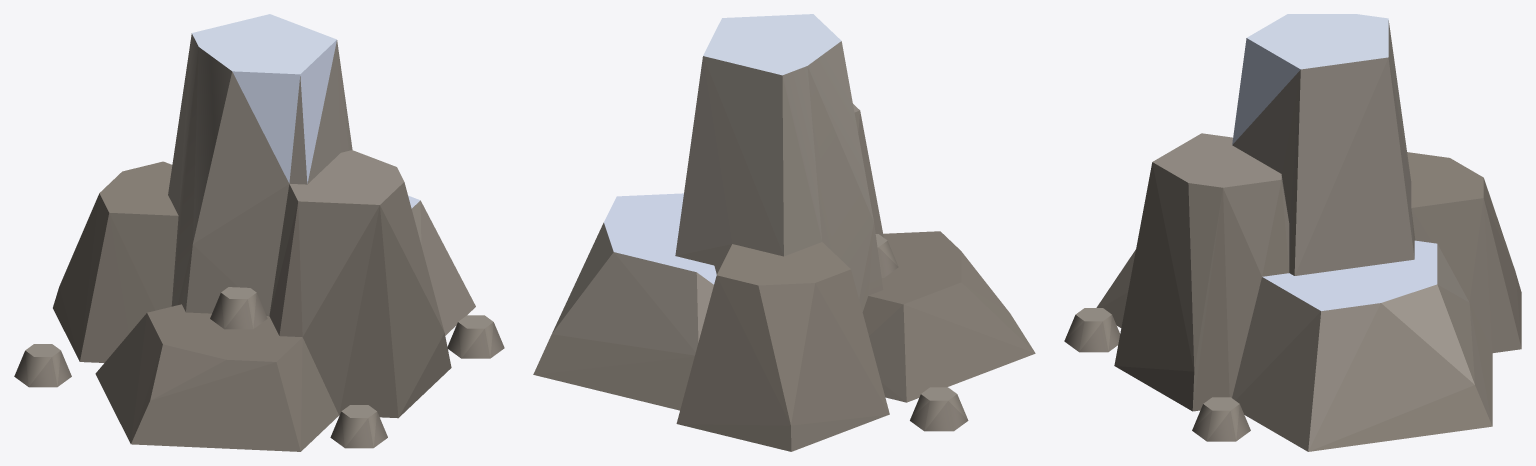
File: kenney_town_rock_large.glb
3 renders of one model, left to right at view 1: azimuth 30°, elevation 25°; view 2: azimuth 150°, elevation 25°; view 3: azimuth 270°, elevation 25°, orthographic. The views are drawn at different scales.
Parts seen in each view (by area): view 1: stone, cloth; view 2: stone, cloth; view 3: stone, cloth.
Part boxes in pixels (x1=…): stone: x1=14, y1=33, x2=504, y2=451; cloth: x1=192, y1=14, x2=420, y2=208; stone: x1=533, y1=41, x2=1035, y2=451; cloth: x1=604, y1=14, x2=841, y2=284; stone: x1=1064, y1=20, x2=1521, y2=451; cloth: x1=1232, y1=14, x2=1437, y2=311.
Bounding box in the file's own units: 1.67 × 1.16 × 1.55.
